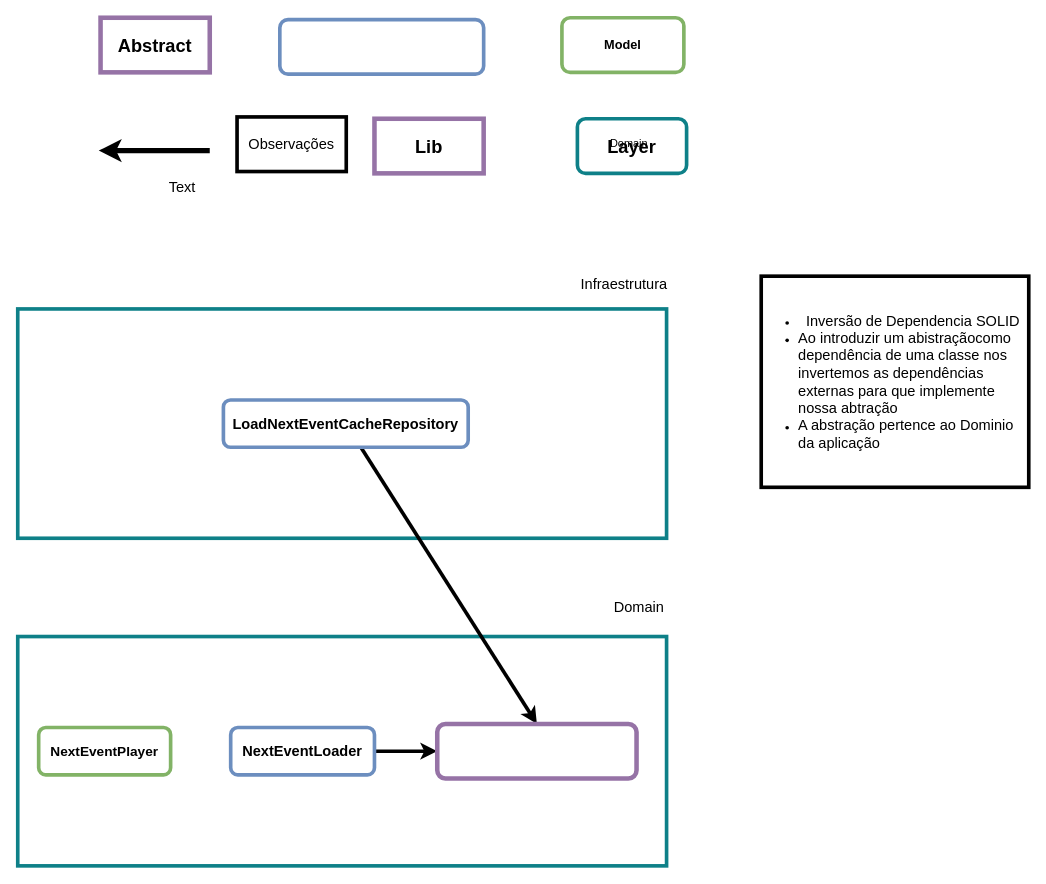
Image size: 1046x884. Some labels were removed from this diagram. Each missing label, with the centre of its shape:
Implementatio: the point at 381,46
LoadNextEventRepository: the point at 536,750
